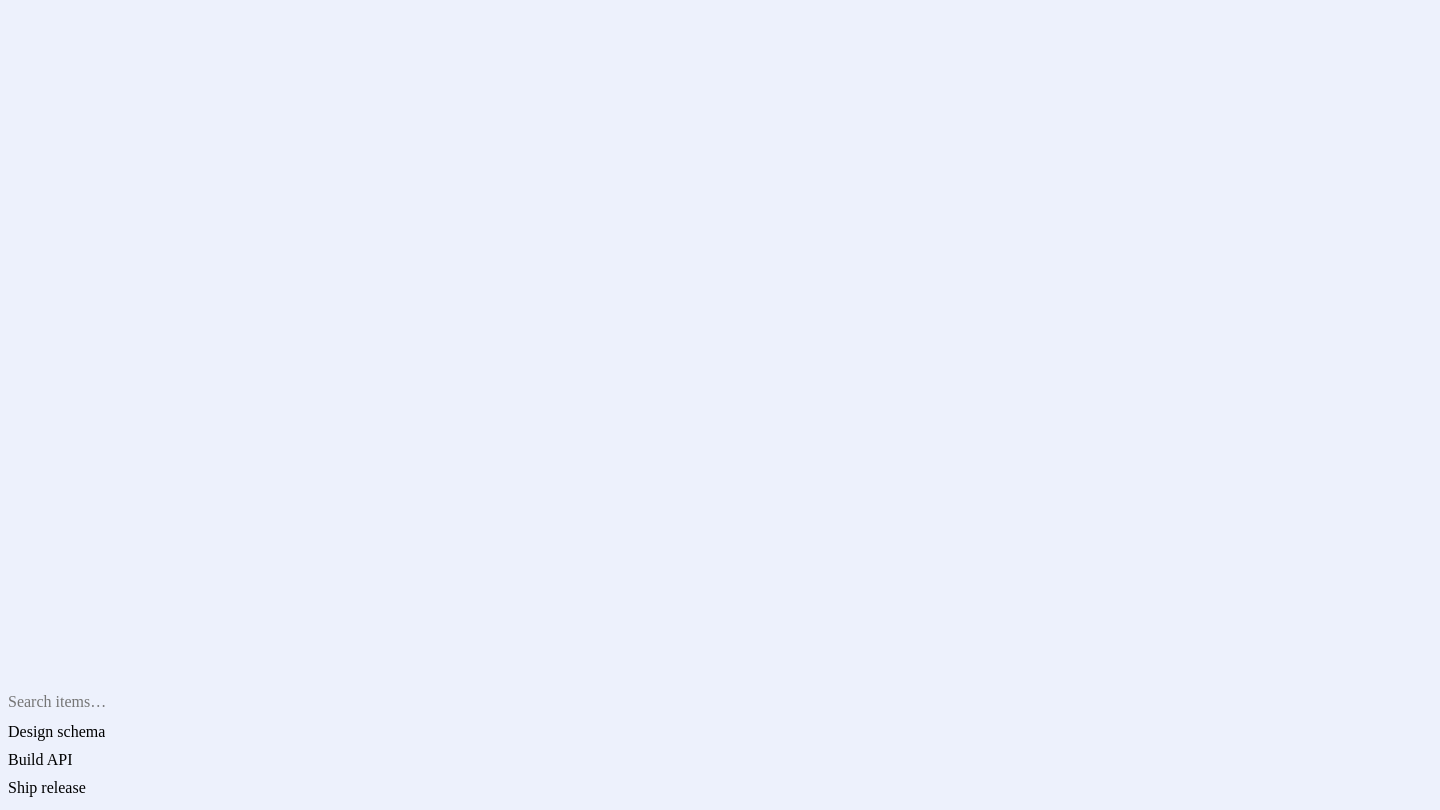
Test: dependency column UI › lists board items excluding self and subitems, and filters by search query
Expected: the option "Design schema" is shown, [8,718,300,746]
Expected: the option "Build API" is shown, [8,746,300,774]
Type "ship" into the field with placeholder "Search items…". click: (154, 702)
box: [8,686,300,718]
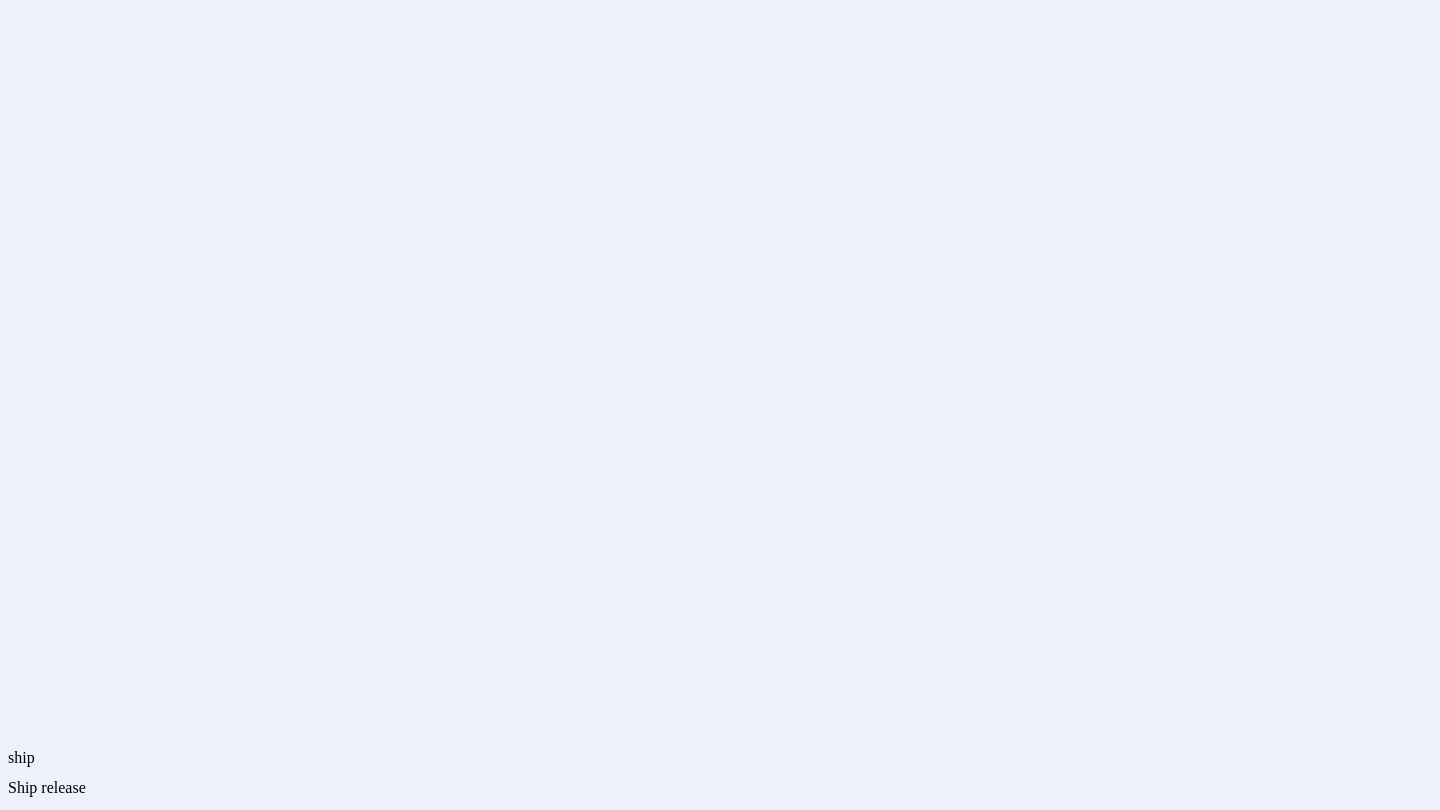
Expected: the option "Ship release" is shown, [8,774,300,802]
Now the option "Design schema" is gone
